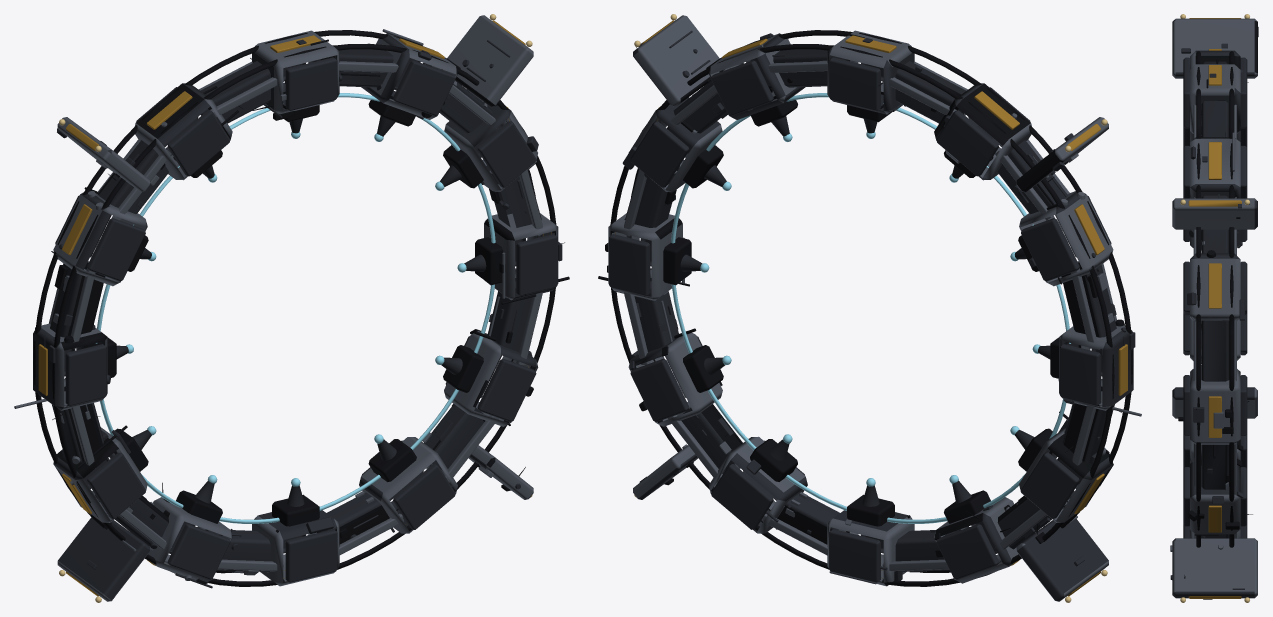
File: stargate-transformed.glb
3 renders of one model, left to right at view 1: azimuth 30°, elevation 25°; view 2: azimuth 150°, elevation 25°; view 3: azimuth 270°, elevation 25°, orthographic. The views are drawn at different scales.
Parts seen in each view (by area): view 1: stargate; view 2: stargate; view 3: stargate.
Part boxes in pixels (x1=…): stargate: x1=14, y1=14, x2=569, y2=602; stargate: x1=598, y1=14, x2=1141, y2=602; stargate: x1=1170, y1=14, x2=1258, y2=602.
Size of the model in its own units: 2614 by 2426 by 414.
